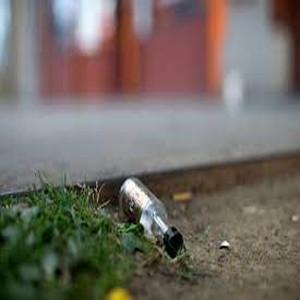Plastic: (121, 172, 183, 253)
